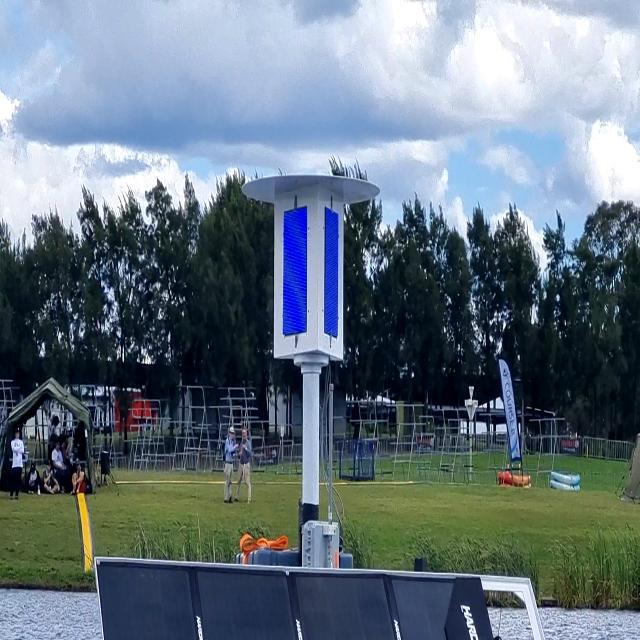led: (278, 197, 312, 338), (319, 194, 341, 346)
